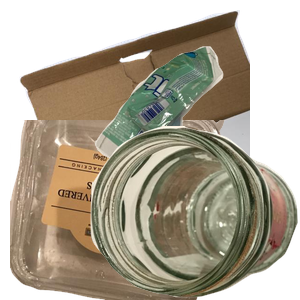cardboard: (16, 10, 256, 190)
glass: (90, 126, 300, 300)
plastic: (10, 120, 227, 300)
trash: (92, 44, 300, 211)
